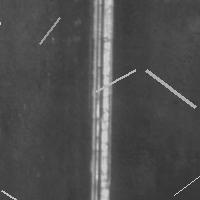scratches: (85, 1, 116, 199), (141, 65, 200, 112), (91, 65, 140, 96), (34, 13, 64, 49), (169, 166, 200, 200), (0, 185, 50, 200), (0, 0, 5, 29)
